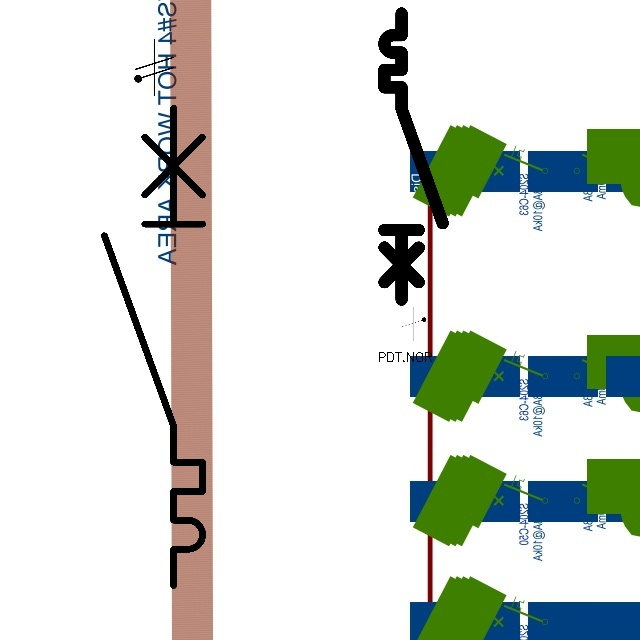interruptor_termomagnetico: (92, 95, 215, 597), (377, 6, 450, 307)
